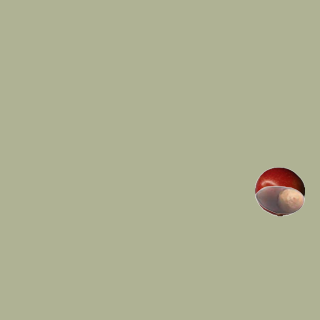Apple Braeburn: (254, 166, 304, 216)
Hazelnut: (254, 174, 304, 224)
